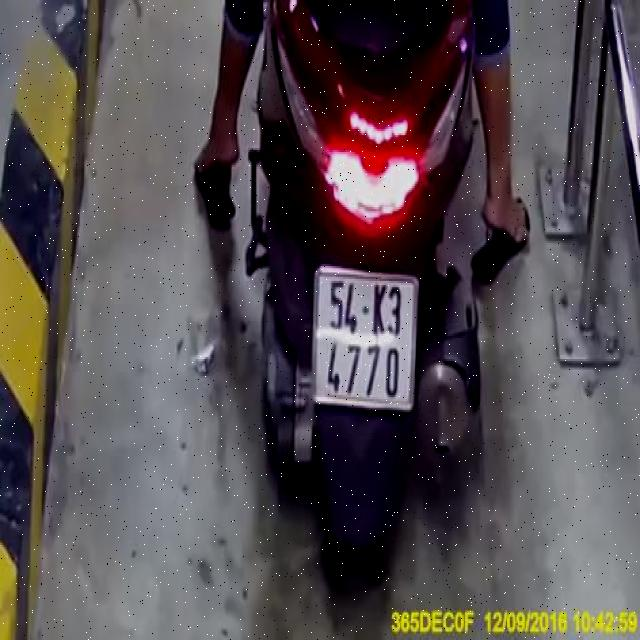0: (385, 344, 399, 401)
3: (387, 282, 404, 341)
4: (344, 282, 360, 333), (328, 340, 342, 397)
5: (328, 278, 344, 330)
7: (344, 338, 363, 400), (363, 344, 381, 397)
K: (372, 282, 386, 336)
